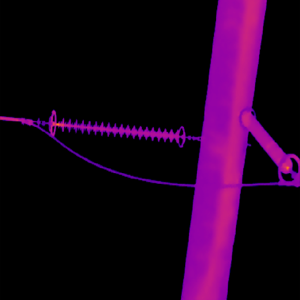insulator: (49, 110, 185, 146), (240, 108, 292, 173)
